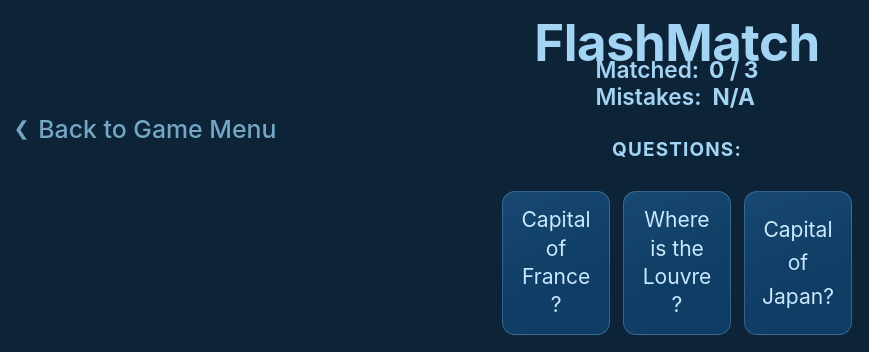
FlashMatch › a deck where two cards share an answer › retires one question and one answer per match, not every card that reads alike
Click the text "Capital of France?" at (556,263), box [502,191,610,335]
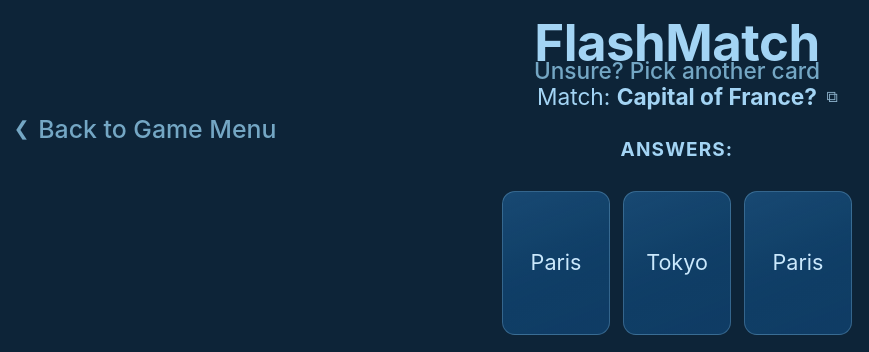
Click the 1st text "Paris" at (556,263), box [502,191,610,335]
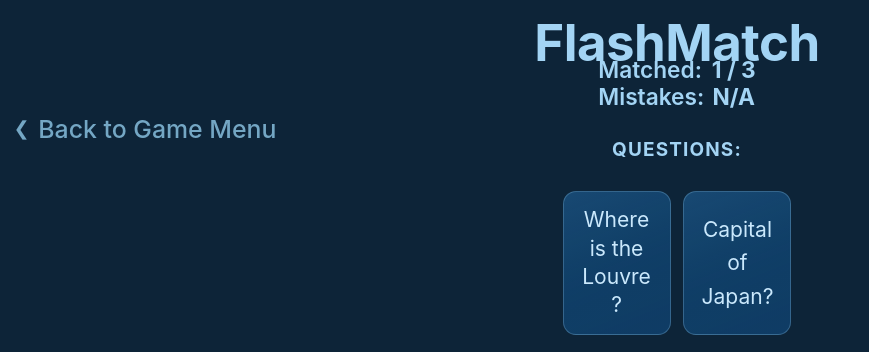
Expected: the text "Capital of France?" is gone
Expected: the text "Where is the Louvre?" is shown, [582,207,651,317]
